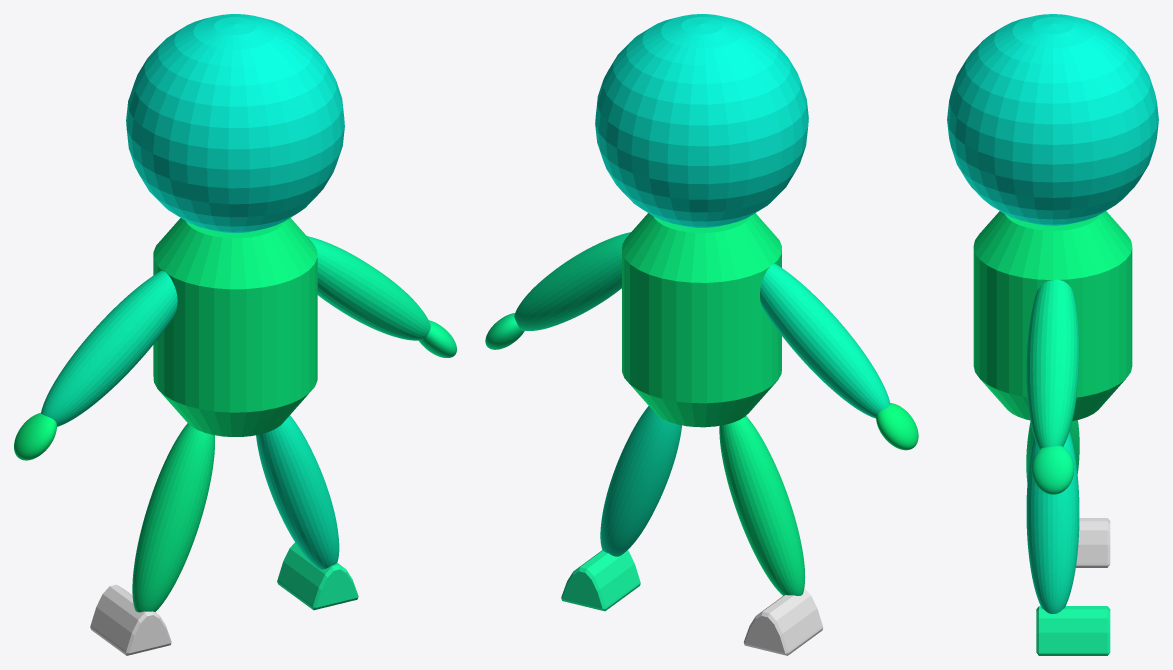
Rendered from PersonaggioBianco.fbx.
The picture shows the model from 3 angles, left to right: view 1: azimuth 30°, elevation 25°; view 2: azimuth 150°, elevation 25°; view 3: azimuth 270°, elevation 25°; orthographic projection. The views are drawn at different scales.
Visible parts, largest first — view 1: Sfera.001; view 2: Sfera.001; view 3: Sfera.001.
Part boxes in pixels (left/top/right/bottom): Sfera.001: left=14, top=14, right=456, bottom=655; Sfera.001: left=485, top=14, right=918, bottom=655; Sfera.001: left=947, top=14, right=1158, bottom=655.
Size of the model in its own units: 92.08 by 120 by 40.
